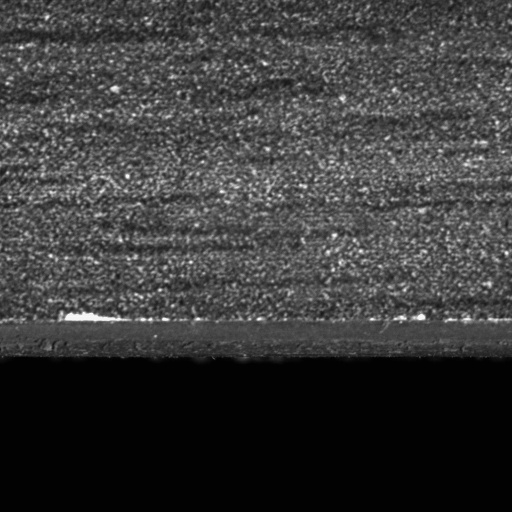huashang: (64, 308, 124, 324)
